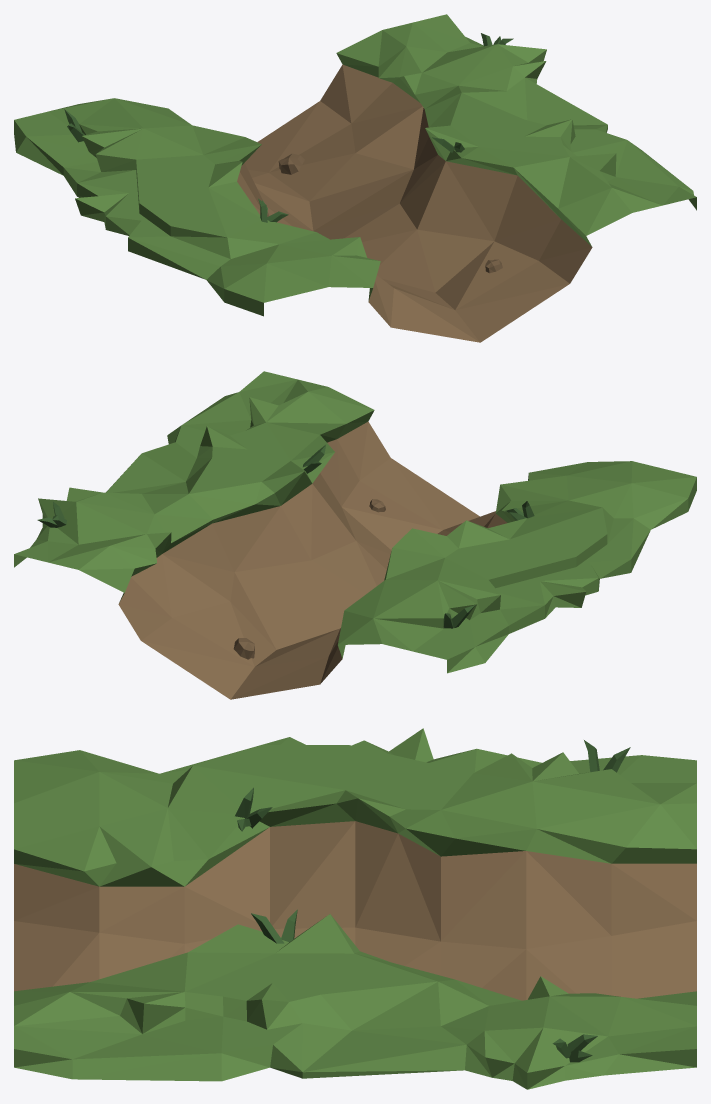
File: SM_Env_Stream_Straight_01.fbx
3 renders of one model, top to bottom at view 1: azimuth 30°, elevation 25°; view 2: azimuth 150°, elevation 25°; view 3: azimuth 270°, elevation 25°, orthographic. The views are drawn at different scales.
Parts seen in each view (by area): view 1: SM_Env_Stream_Straight_01; view 2: SM_Env_Stream_Straight_01; view 3: SM_Env_Stream_Straight_01.
Boxes of the visible parts, x1,y1,x2,y2 form: SM_Env_Stream_Straight_01: [14, 14, 696, 342]; SM_Env_Stream_Straight_01: [14, 371, 696, 699]; SM_Env_Stream_Straight_01: [14, 728, 696, 1089].
Bounding box in the file's own units: 0.0589 × 0.0132 × 0.05.
1 material, 1 textured.
